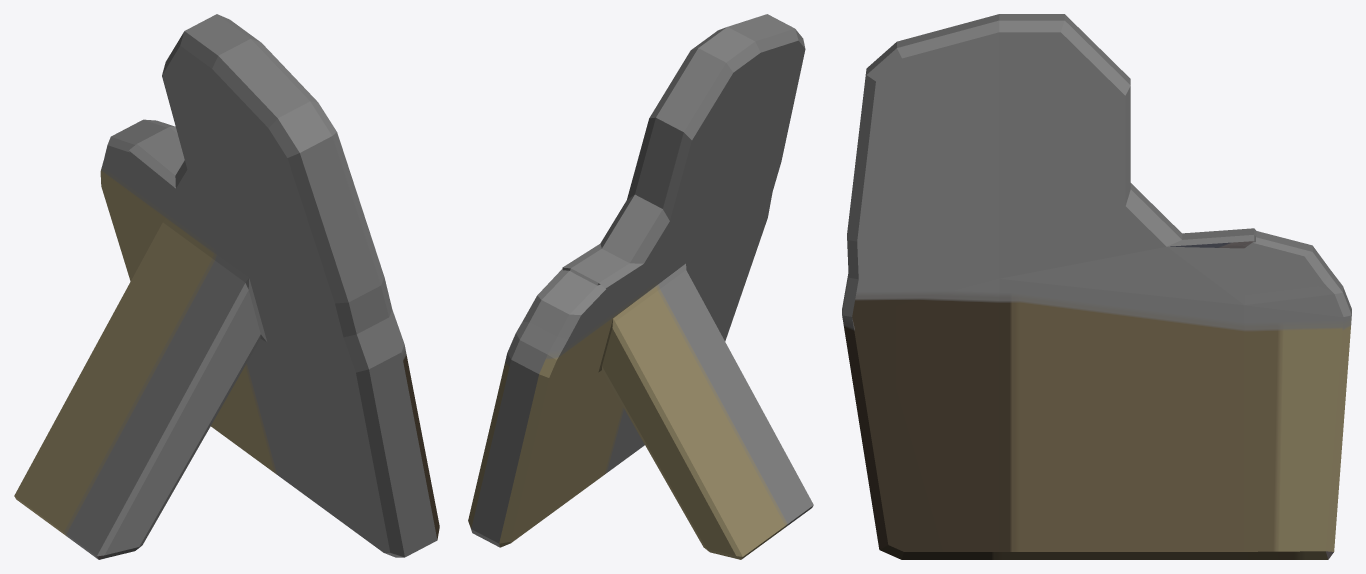
Rendered from ChickenCutout.fbx.
3 views of the same model, side by side, from view 1: azimuth 30°, elevation 25°; view 2: azimuth 150°, elevation 25°; view 3: azimuth 270°, elevation 25° (orthographic). The views are drawn at different scales.
Visible parts, largest first — view 1: CHICKEN; view 2: CHICKEN; view 3: CHICKEN.
Part boxes in pixels (left/top/right/bottom): CHICKEN: left=14, top=14, right=439, bottom=559; CHICKEN: left=468, top=14, right=813, bottom=559; CHICKEN: left=842, top=14, right=1351, bottom=559.
Size of the model in its own units: 64.07 by 120 by 112.
